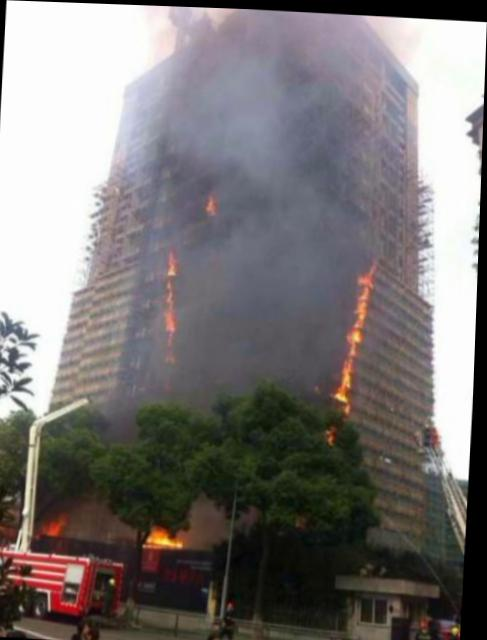fire: (331, 255, 385, 428), (160, 244, 188, 359), (145, 525, 187, 553), (206, 188, 224, 216)
